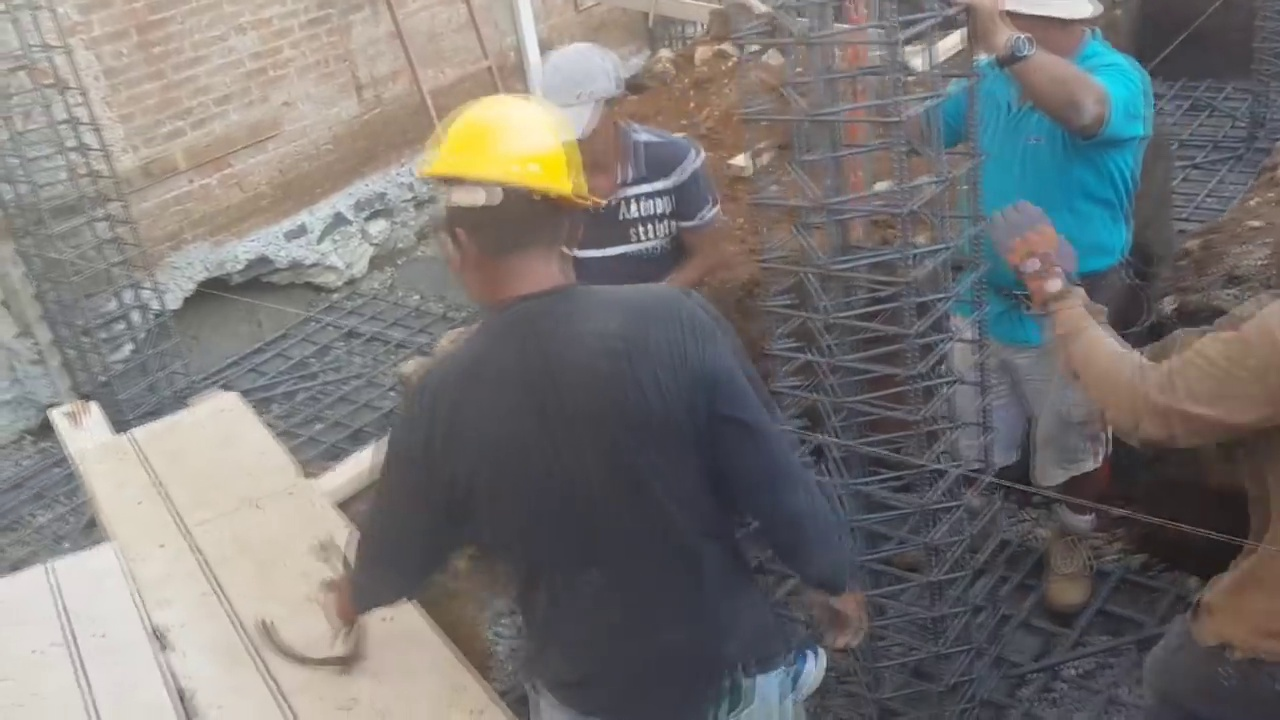helmet: (409, 82, 613, 219)
helmet-off: (535, 44, 633, 179), (979, 0, 1101, 79)
helmet-on: (412, 85, 614, 306)
person: (339, 81, 881, 712), (897, 0, 1159, 612), (1007, 191, 1280, 720), (535, 29, 737, 297)
